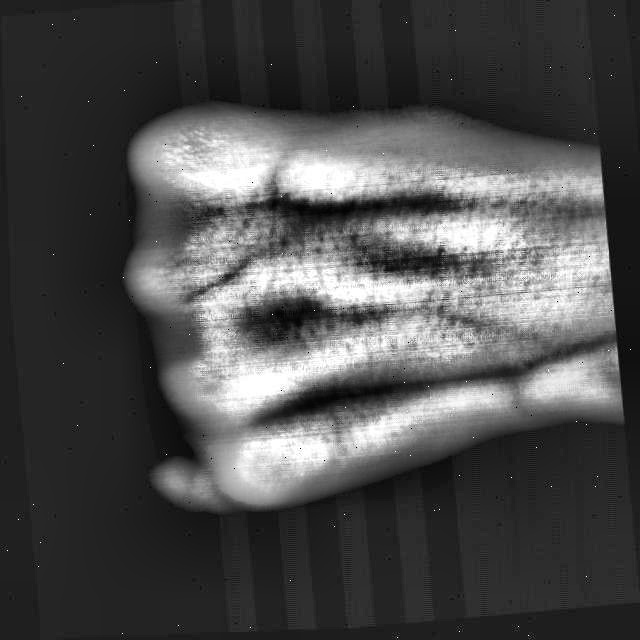Vein: (329, 358, 525, 406)
